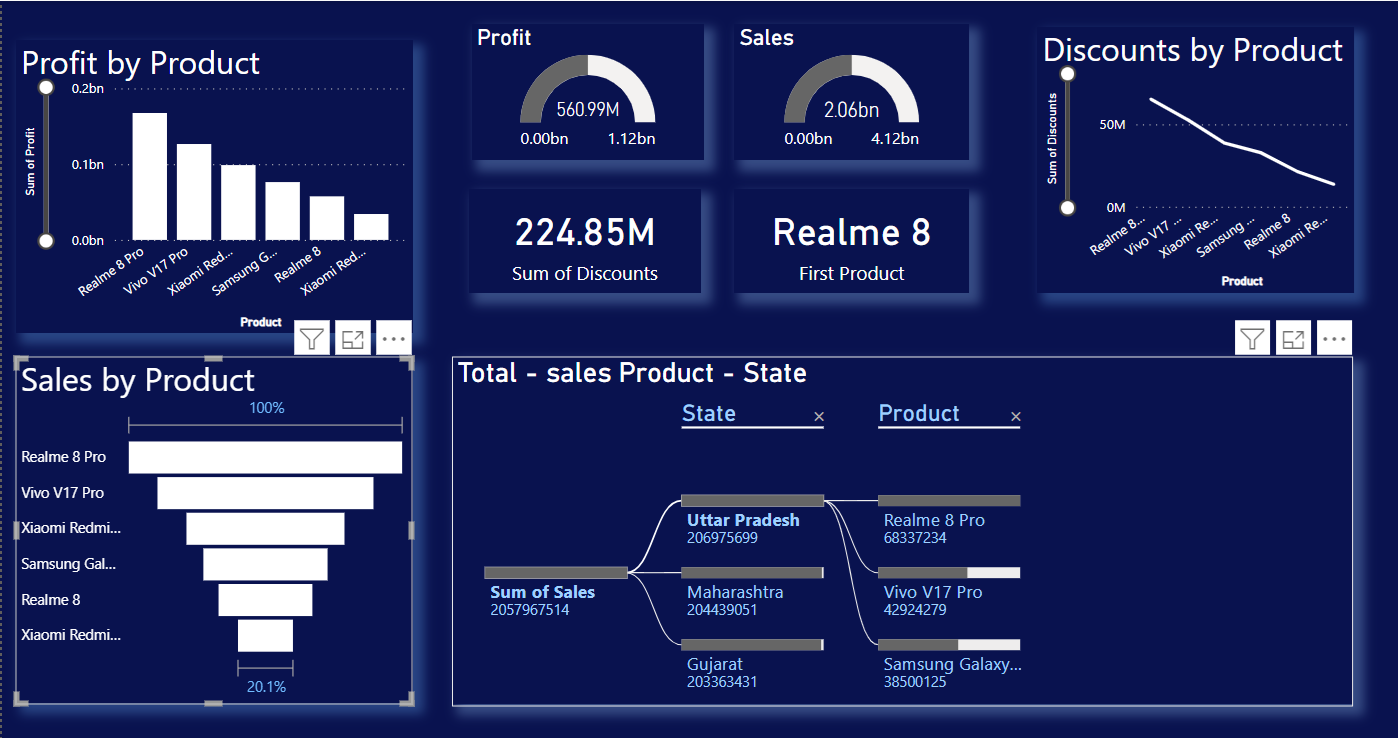

The page's visual inventory and layout, read from the dashboard file:
{"tool":"powerbi","page":{"name":"Page 2","canvas":[1280,720],"ordinal":1},"visuals":[{"type":"shape","box":[1132.6,34,147.2,71.2],"z":0},{"type":"lineChart","fields":{"Y":["Sum(Table6.Discounts)"],"Category":["Table6.Product"]},"box":[0,0,501.2,298.3],"z":1000},{"type":"funnel","fields":{"Category":["Table6.Product"],"Y":["Sum(Table6.Profit)"]},"box":[0,333.1,501.2,316.5],"z":2000},{"type":"funnel","title":"Sales by Product","fields":{"Category":["Table6.Product"],"Y":["Sum(Table6. Sales)"]},"box":[538.8,0,291.2,317.1],"z":3000},{"type":"card","fields":{"Values":["Sum(Table6.Discounts)"]},"box":[538.8,359.7,291.4,97.1],"z":4000},{"type":"card","fields":{"Values":["Min(Table6.Product)"]},"box":[877.3,359.7,291.4,97.1],"z":5000}]}

Visuals, with their boxes on the page's 1280x720 design canvas (x1, y1, x2, y2). These are canvas units, not pixel positions in the 1398x738 screenshot, which may show the page scaled, cropped or inside an application window:
shape: 1133,34,1280,105
lineChart - Sum(Table6.Discounts) x Table6.Product: 0,0,501,298
funnel - Table6.Product x Sum(Table6.Profit): 0,333,501,650
"Sales by Product" funnel: 539,0,830,317
card - Sum(Table6.Discounts): 539,360,830,457
card - Min(Table6.Product): 877,360,1169,457
